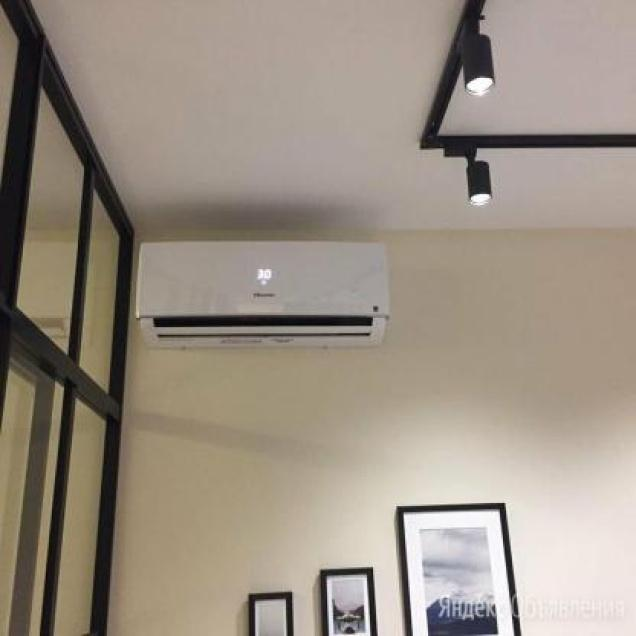AC: (135, 239, 390, 349)
